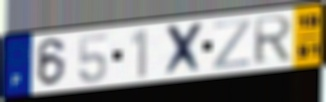1: (131, 28, 149, 80)
5: (77, 31, 109, 84)
6: (35, 37, 68, 88)
R: (252, 14, 295, 67)
X: (162, 19, 206, 79)
Z: (211, 17, 253, 72)
